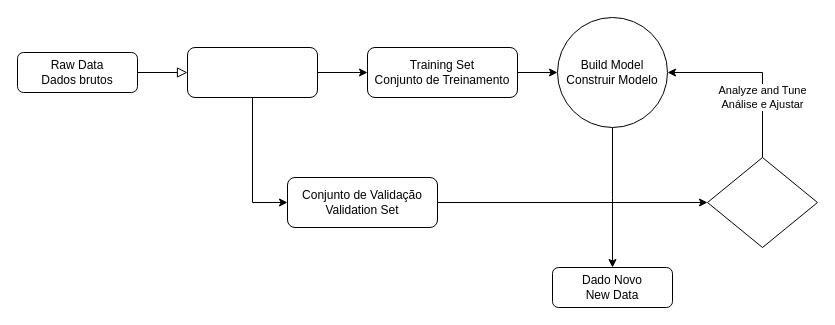
This 835x325 diagram has some shape labels left out. The centre of each missing label's shape, as x and y in pixels:
Decision Decisão: the point at 762,202
Scaled Data Dados dimensionados: the point at 252,72
